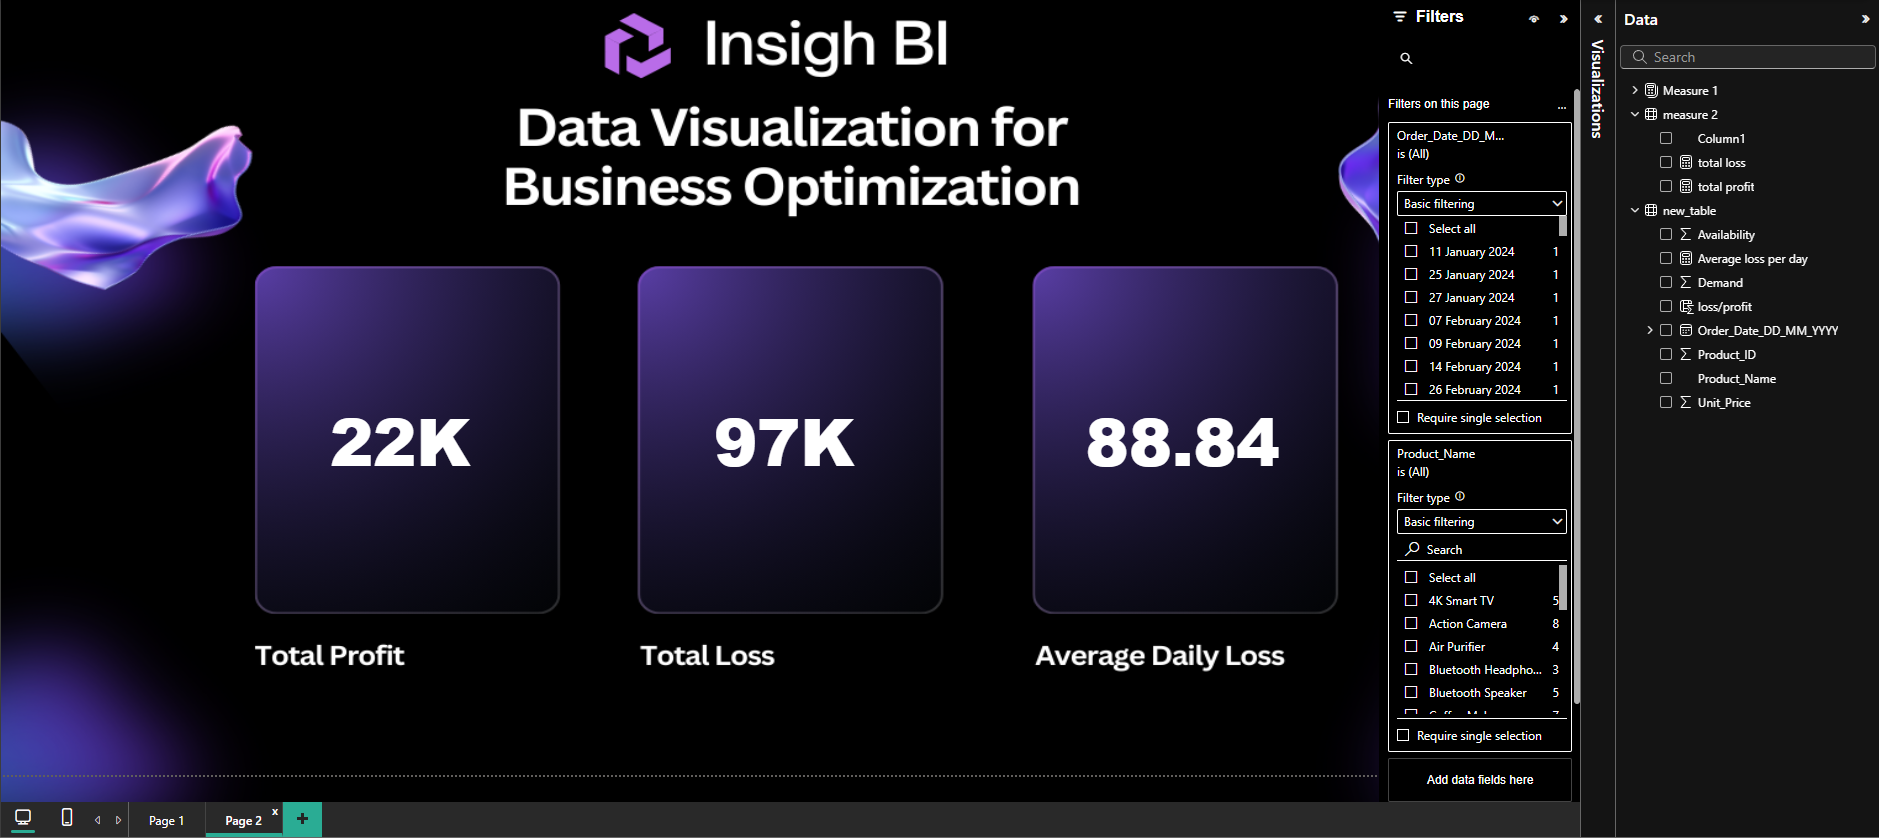

The dashboard page shown, as its layout file describes it:
{"tool":"powerbi","page":{"name":"Page 2","canvas":[1280,720],"ordinal":1},"visuals":[{"type":"card","fields":{"Values":["measure 2.total loss"]},"box":[601.9,279.6,279.6,353.6],"z":0},{"type":"card","fields":{"Values":["measure 2.total profit"]},"box":[238.9,279.6,279.6,353.6],"z":1},{"type":"card","fields":{"Values":["measure 2.Average loss per day"]},"box":[979.6,279.6,279.6,362],"z":2}]}

Visuals, with their boxes on the page's 1280x720 design canvas (x1, y1, x2, y2). These are canvas units, not pixel positions in the 1879x838 screenshot, which may show the page scaled, cropped or inside an application window:
card - measure 2.total loss: (602,280,882,633)
card - measure 2.total profit: (239,280,518,633)
card - measure 2.Average loss per day: (980,280,1259,642)
